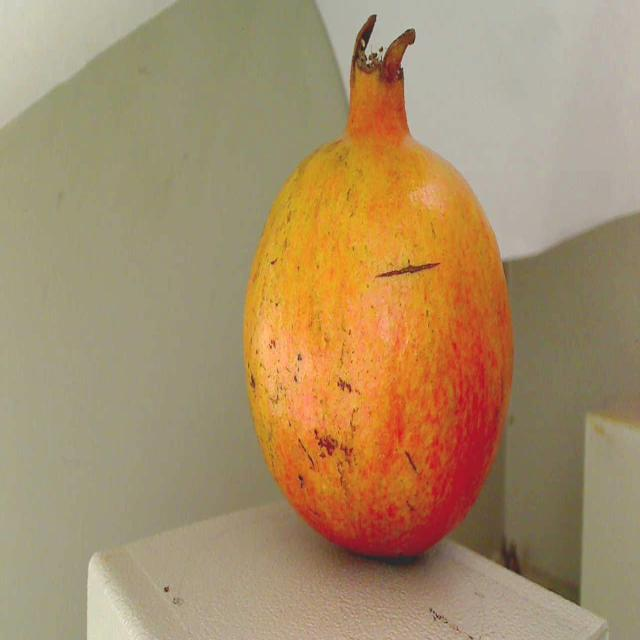pomegranate: (239, 0, 526, 576)
